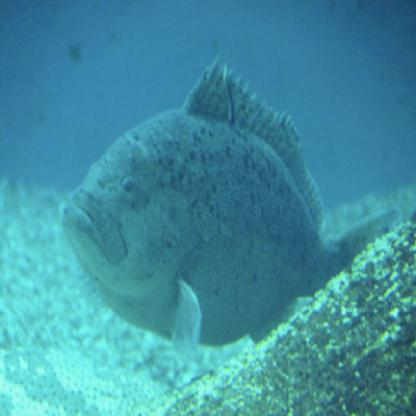Serranidae -Groupers-: (58, 55, 397, 359)
